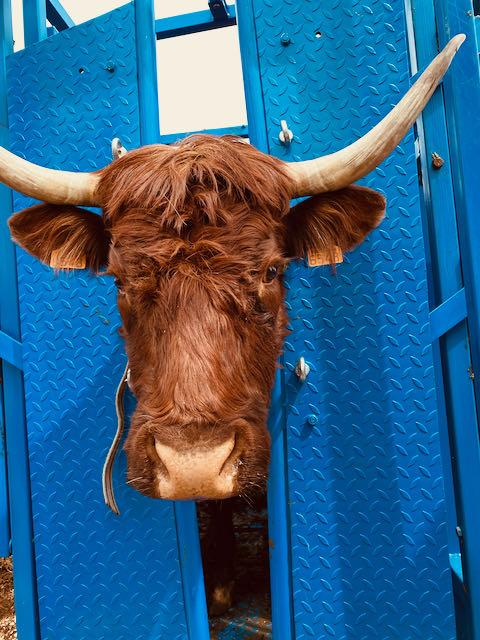muzzles: (117, 424, 268, 509)
